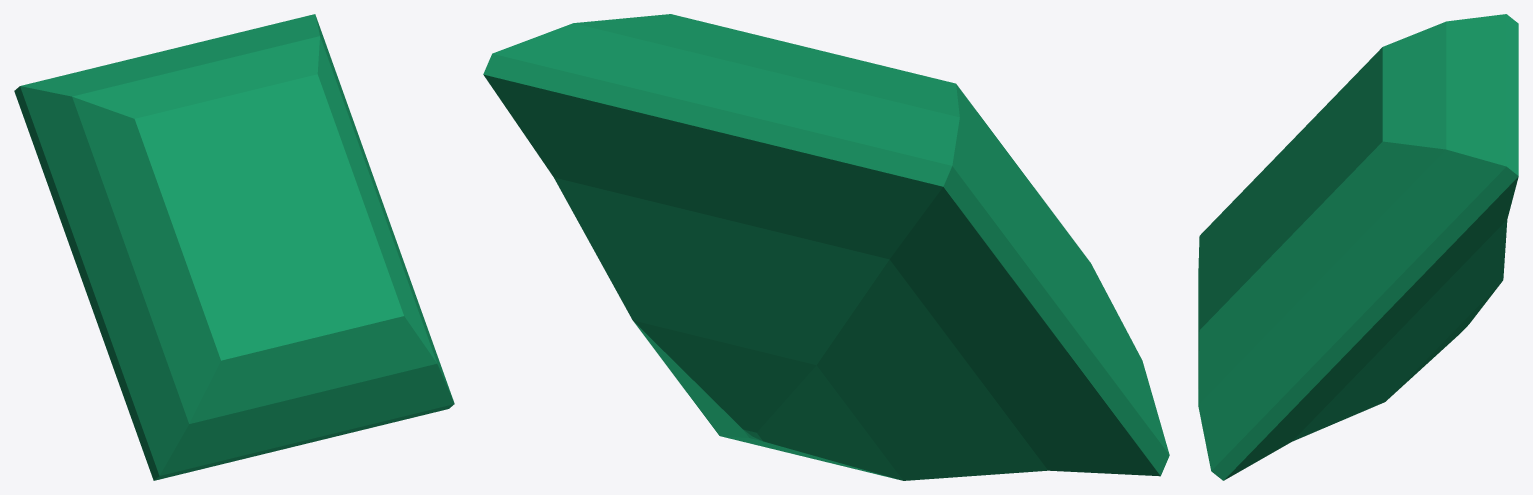
The model's file is emerald.glb.
3 renders of one model, left to right at view 1: azimuth 30°, elevation 25°; view 2: azimuth 150°, elevation 25°; view 3: azimuth 270°, elevation 25°, orthographic. The views are drawn at different scales.
Visible parts, largest first — view 1: emerald; view 2: emerald; view 3: emerald.
Boxes of the visible parts, x1,y1,x2,y2 form: emerald: (14, 14, 454, 480); emerald: (483, 14, 1169, 480); emerald: (1198, 14, 1518, 480).
Bounding box in the file's own units: 1.84 × 1.8 × 1.64.
